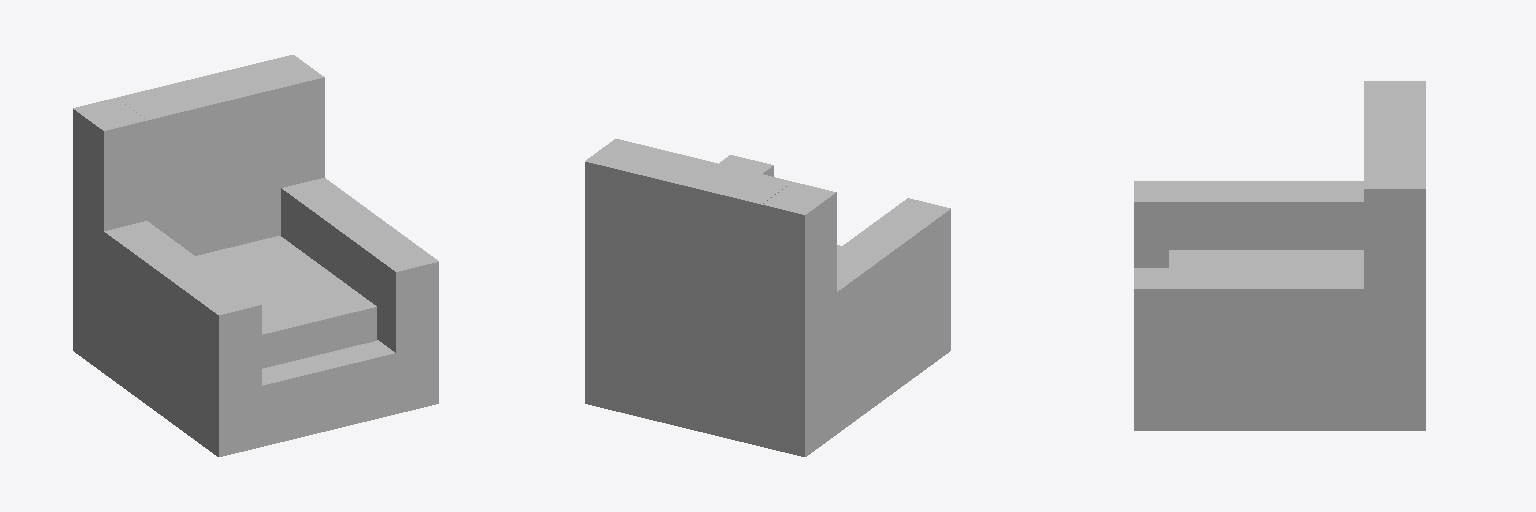
File: sofa_small.obj
3 renders of one model, left to right at view 1: azimuth 30°, elevation 25°; view 2: azimuth 150°, elevation 25°; view 3: azimuth 270°, elevation 25°, orthographic.
Parts seen in each view (by area): view 1: Box006; view 2: Box006; view 3: Box006.
Boxes of the visible parts, <box> form: Box006: <box>73,55,438,456</box>; Box006: <box>585,139,950,456</box>; Box006: <box>1134,81,1425,430</box>.
Bounding box in the file's own units: 74.8 × 78.45 × 85.71.